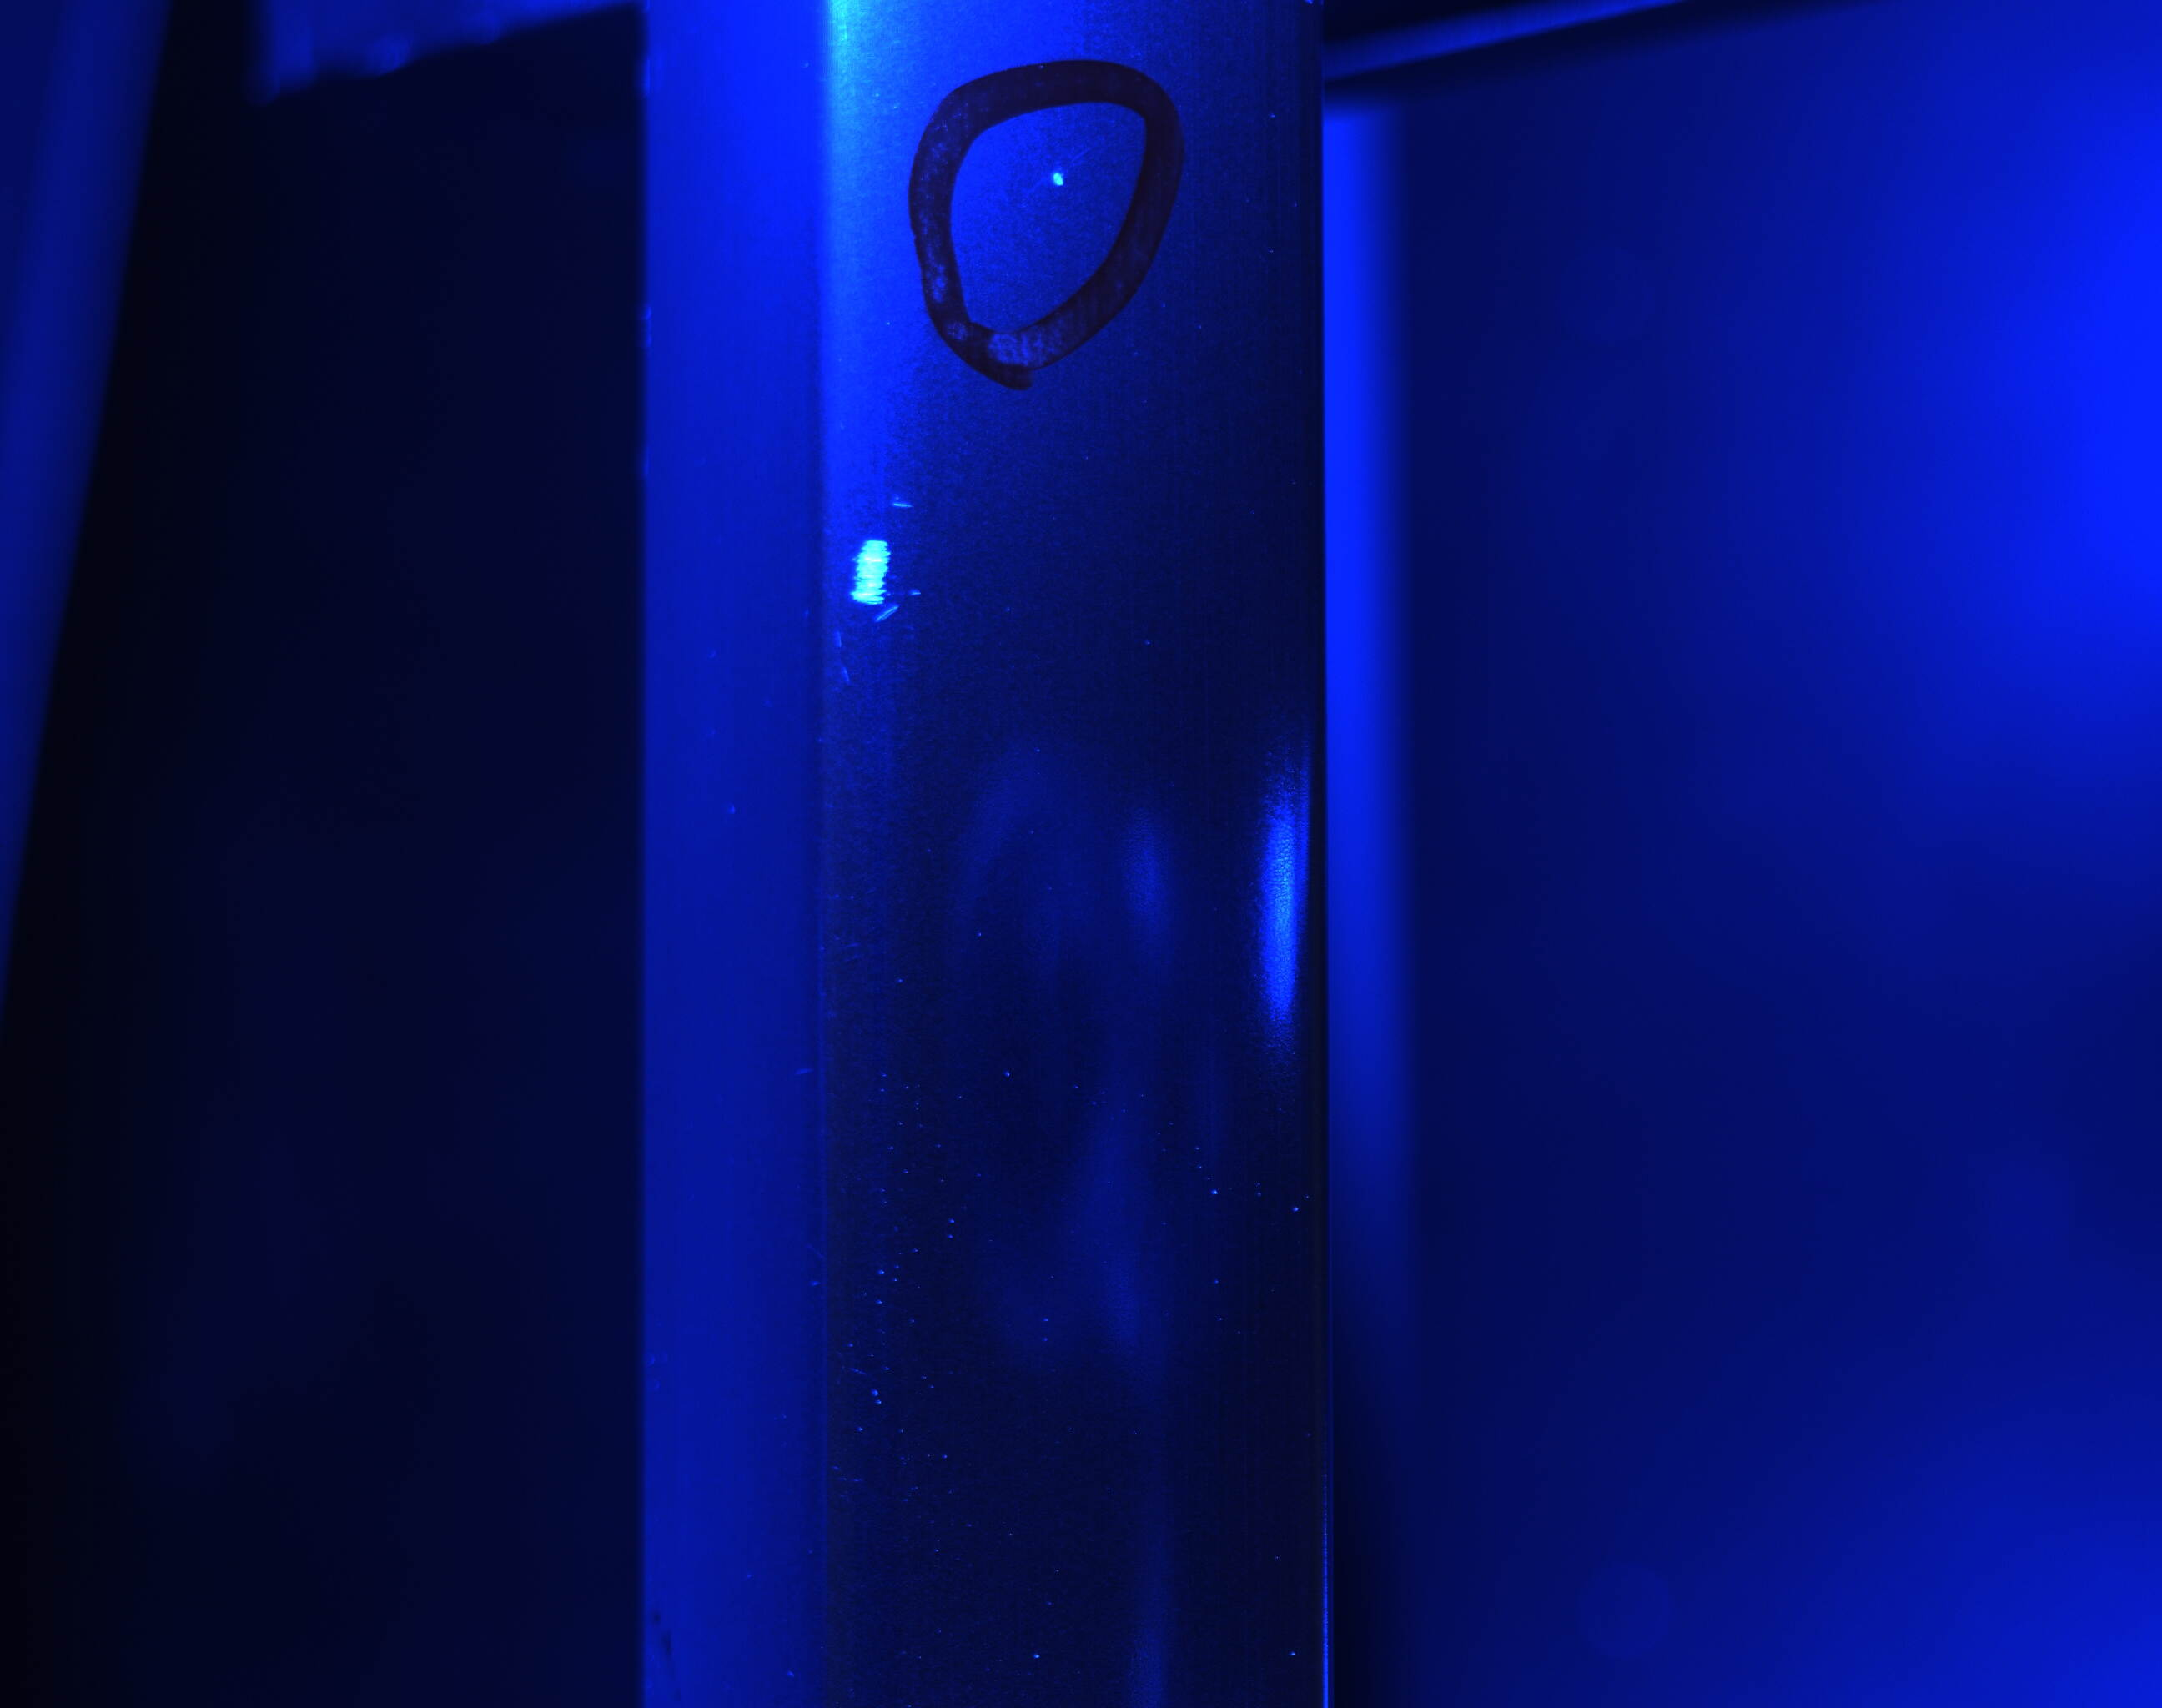NG: (839, 518, 927, 651), (1030, 154, 1088, 226)
